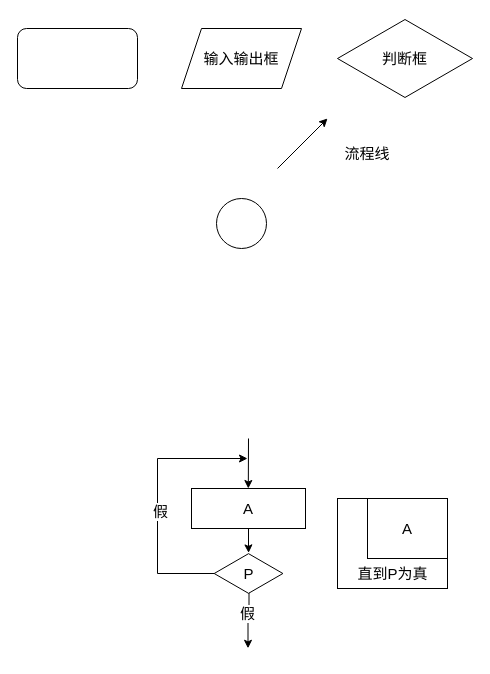
Image size: 490x674. Some labels were removed from this diagram. Each missing label, with the centre of its shape:
起止框: (x=77, y=58)
连接点: (x=241, y=223)
